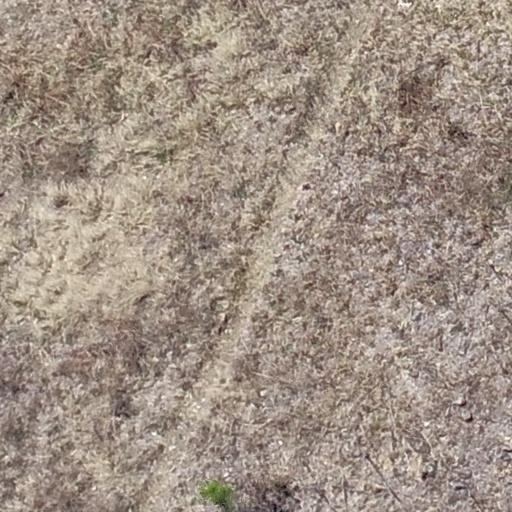stone: (469, 232, 487, 247), (422, 462, 436, 477), (462, 410, 472, 422), (454, 396, 466, 404)
